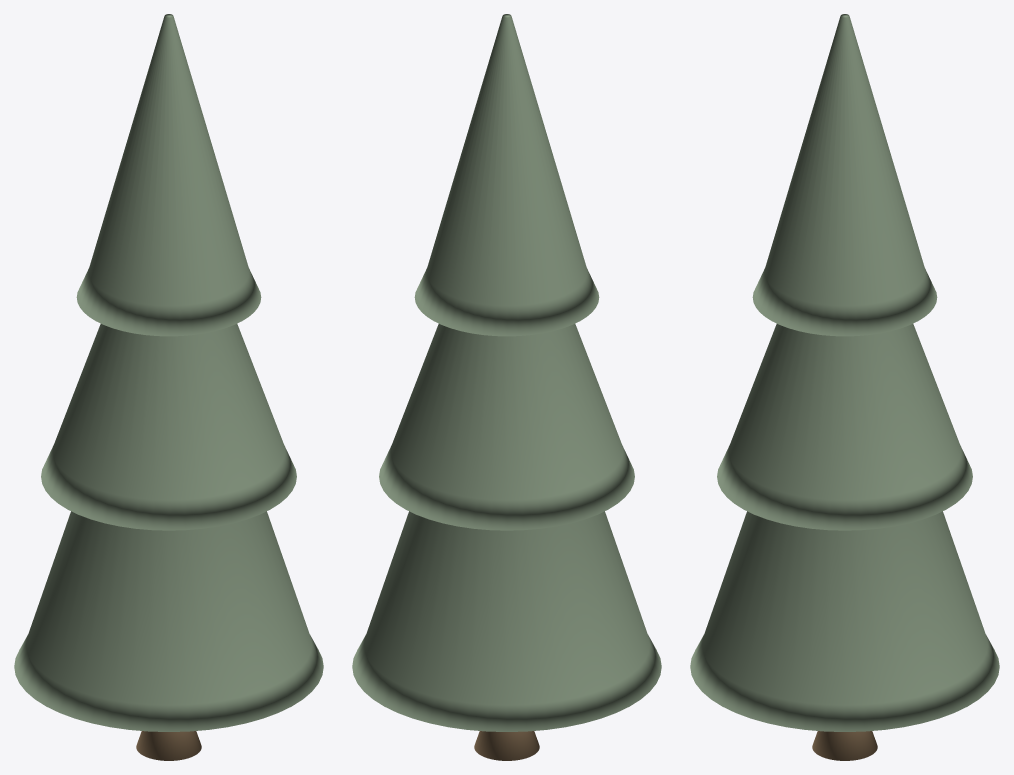
File: pine.glb
The picture shows the model from 3 angles, left to right: view 1: azimuth 30°, elevation 25°; view 2: azimuth 150°, elevation 25°; view 3: azimuth 270°, elevation 25°; orthographic projection.
Parts seen in each view (by area): view 1: pine-continuous-needles, pine-trunk; view 2: pine-continuous-needles, pine-trunk; view 3: pine-continuous-needles, pine-trunk.
Boxes of the visible parts, x1,y1,x2,y2 form: pine-continuous-needles: (14,14,323,731); pine-trunk: (136,731,201,760); pine-continuous-needles: (352,14,661,731); pine-trunk: (474,731,539,760); pine-continuous-needles: (690,14,999,731); pine-trunk: (812,731,877,760).
Bounding box in the file's own units: 1.04 × 2.71 × 1.04.
